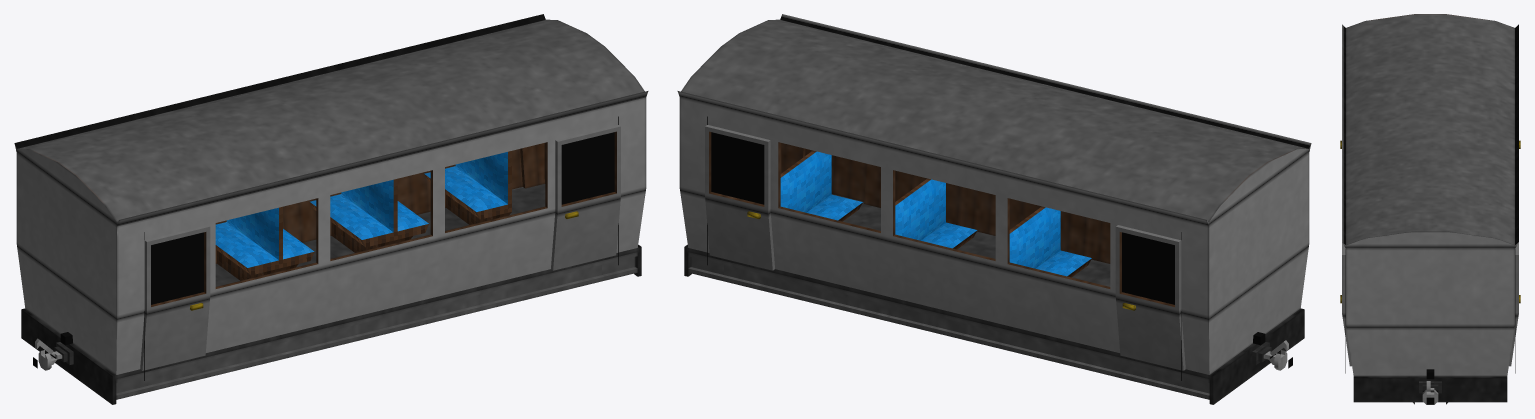
File: kitsune_mk2_coach.obj
The picture shows the model from 3 angles, left to right: view 1: azimuth 30°, elevation 25°; view 2: azimuth 150°, elevation 25°; view 3: azimuth 270°, elevation 25°; orthographic projection. The views are drawn at different scales.
Visible parts, largest first — view 1: FRAME_body, FRAME_body_roof, DOOR_1_EXTERNAL, DOOR_3_EXTERNAL, FRAME_body_int, FRAME_bench.001, FRAME_bench.002, FRAME_3, FRAME_2, FRAME_bench.003, FRAME_1, FRAME_end1 (+2 smaller); view 2: FRAME_body, FRAME_body_roof, DOOR_2_EXTERNAL, DOOR_4_EXTERNAL, FRAME_body_int, FRAME_2, FRAME_3, FRAME_1, FRAME_end1, FRAME_bench.003, FRAME_bench.002, FRAME_bench.001 (+3 smaller); view 3: FRAME_body_roof, FRAME_body, FRAME_end2, DOOR_4_EXTERNAL, DOOR_3_EXTERNAL, COUPLER_ENGAGED_REAR_2_TOGGLE_LABEL_Uncouple.
Part boxes in pixels (<box>): FRAME_body: <box>14,14,648,374</box>; FRAME_body_roof: <box>17,19,644,221</box>; DOOR_1_EXTERNAL: <box>140,225,210,370</box>; DOOR_3_EXTERNAL: <box>551,125,620,270</box>; FRAME_body_int: <box>215,142,547,288</box>; FRAME_bench.001: <box>310,178,428,252</box>; FRAME_bench.002: <box>215,206,314,280</box>; FRAME_3: <box>411,189,604,317</box>; FRAME_2: <box>215,236,451,354</box>; FRAME_bench.003: <box>424,151,511,224</box>; FRAME_1: <box>147,267,301,391</box>; FRAME_end1: <box>21,308,149,404</box>; FRAME_body: <box>677,14,1311,374</box>; FRAME_body_roof: <box>681,19,1308,221</box>; DOOR_2_EXTERNAL: <box>1115,225,1185,370</box>; DOOR_4_EXTERNAL: <box>705,125,774,270</box>; FRAME_body_int: <box>778,142,1110,288</box>; FRAME_2: <box>874,231,1110,354</box>; FRAME_3: <box>721,194,880,317</box>; FRAME_1: <box>1024,267,1178,391</box>; FRAME_end1: <box>1176,308,1304,404</box>; FRAME_bench.003: <box>780,150,862,221</box>; FRAME_bench.002: <box>1009,206,1091,277</box>; FRAME_bench.001: <box>895,178,977,249</box>; FRAME_body_roof: <box>1346,14,1514,245</box>; FRAME_body: <box>1342,24,1518,376</box>; FRAME_end2: <box>1353,376,1507,402</box>; DOOR_4_EXTERNAL: <box>1509,242,1520,366</box>; DOOR_3_EXTERNAL: <box>1340,242,1351,366</box>; COUPLER_ENGAGED_REAR_2_TOGGLE_LABEL_Uncouple: <box>1419,381,1441,404</box>.
Size of the model in its own units: 9.38 by 3.31 by 2.94.
5 materials, 5 textured.
